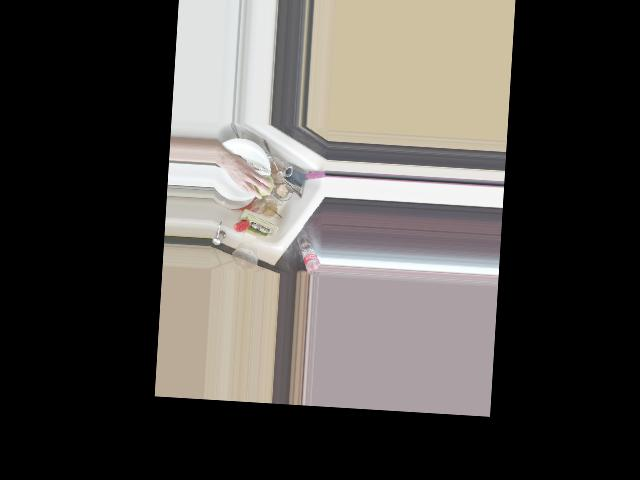apple: (250, 172, 273, 196)
